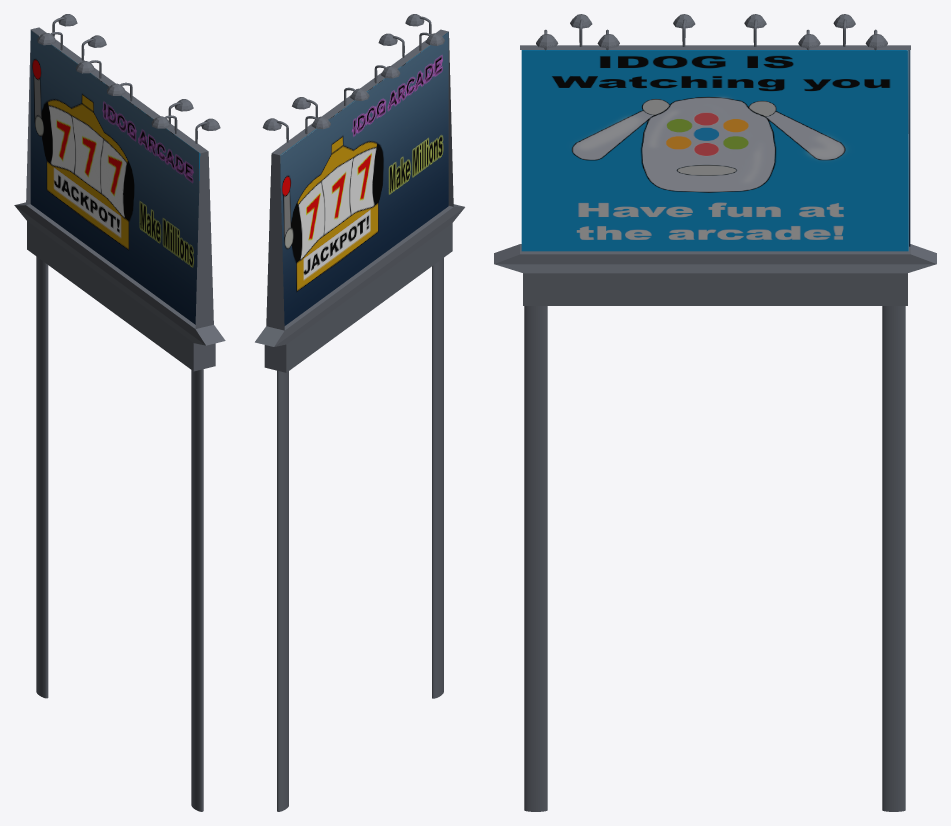
File: Double sided billboard 1.fbx
3 views of the same model, side by side, from view 1: azimuth 30°, elevation 25°; view 2: azimuth 150°, elevation 25°; view 3: azimuth 270°, elevation 25° (orthographic). The views are drawn at different scales.
Visible parts, largest first — view 1: Cube, Cube.001, Cylinder; view 2: Cube, Cube.001, Cylinder; view 3: Cube, Cylinder, Cube.001.
Part boxes in pixels (x1=…): Cube: x1=30, y1=30, x2=200, y2=324; Cube.001: x1=14, y1=27, x2=225, y2=371; Cylinder: x1=36, y1=256, x2=203, y2=811; Cube: x1=280, y1=32, x2=448, y2=325; Cube.001: x1=255, y1=29, x2=464, y2=372; Cylinder: x1=277, y1=258, x2=443, y2=811; Cube: x1=521, y1=50, x2=910, y2=251; Cylinder: x1=524, y1=306, x2=905, y2=811; Cube.001: x1=494, y1=45, x2=936, y2=305.
Size of the model in its own units: 383 by 4788 by 2446.
